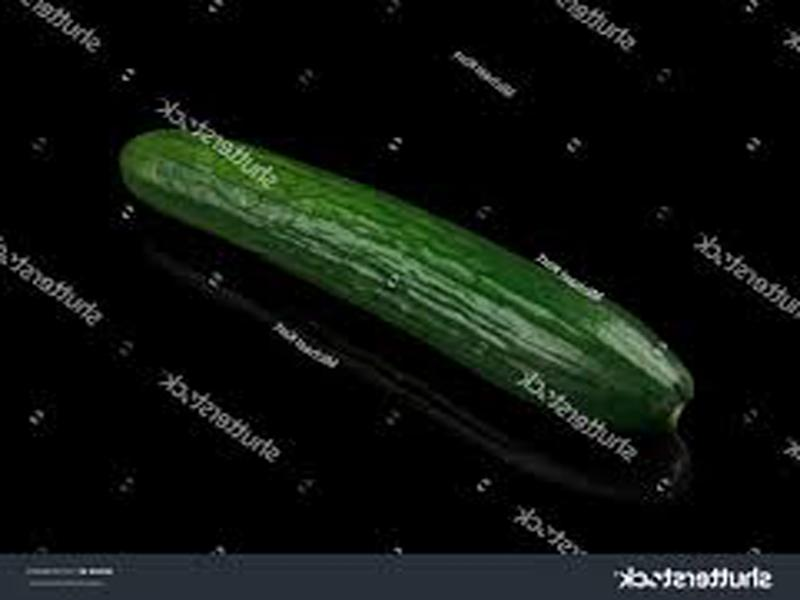Cucumber: (115, 126, 693, 439)
